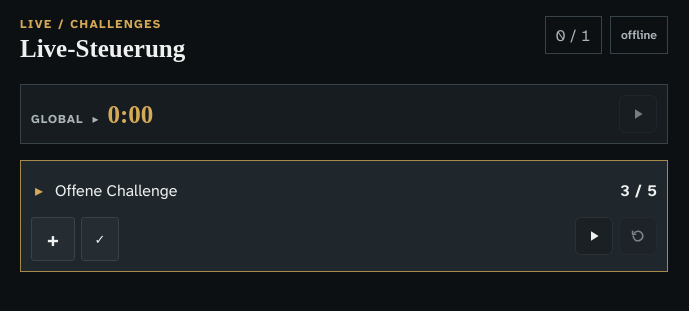
Test: Live-Bedienseite › führt den streak-Bestwert auch beim optimistischen Abhaken mit
Click the button named "Offene Challenge abhaken": [100, 239] box [81, 217, 119, 261]
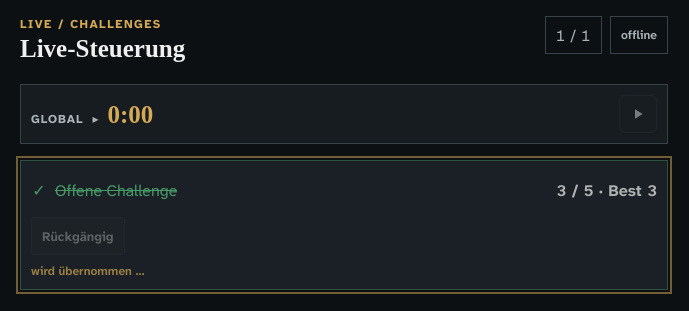
Expected: the text "3 / 5 · Best 3" is shown, [556, 180, 657, 200]
